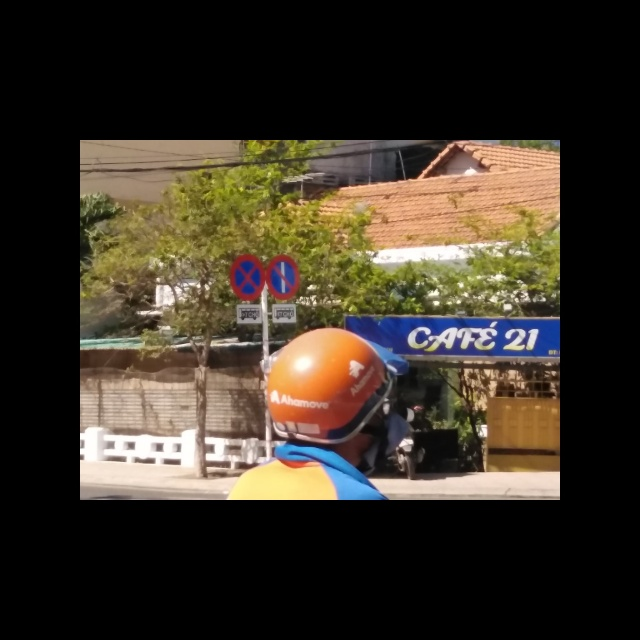Cấm dừng xe và đỗ xe: (230, 254, 266, 301)
Cấm đỗ xe ngày lẻ: (266, 255, 301, 301)
